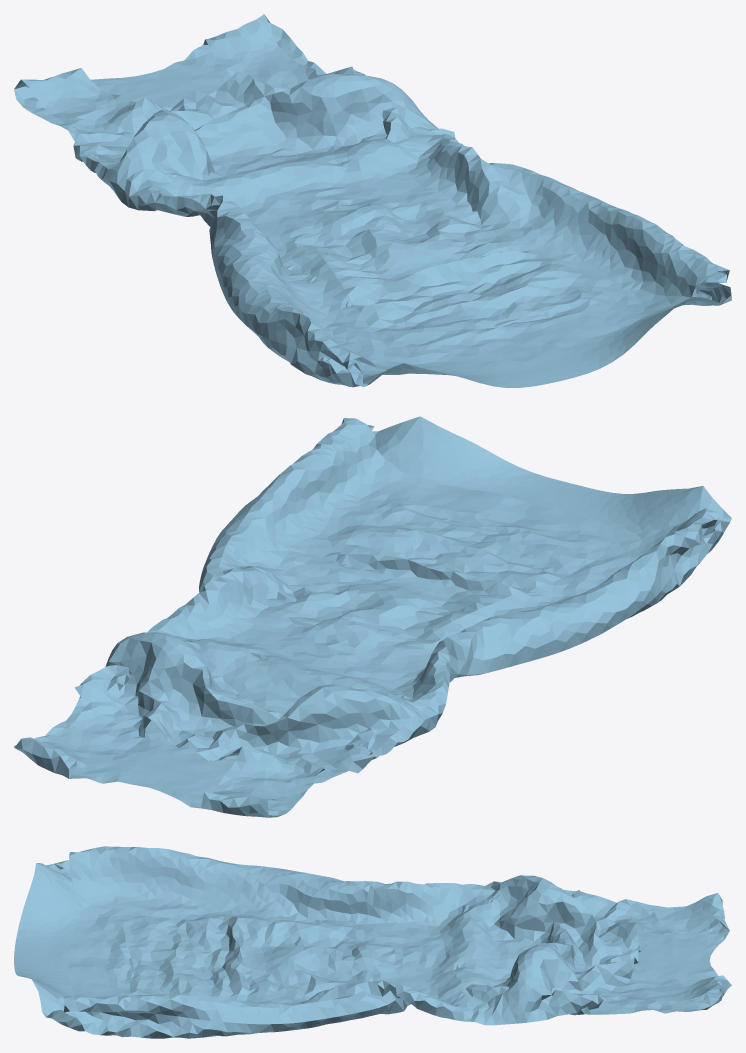
File: frame_01.glb
The picture shows the model from 3 angles, top to bottom: view 1: azimuth 30°, elevation 25°; view 2: azimuth 150°, elevation 25°; view 3: azimuth 270°, elevation 25°; orthographic projection. The views are drawn at different scales.
Parts seen in each view (by area): view 1: frame_01.obj; view 2: frame_01.obj; view 3: frame_01.obj.
Part boxes in pixels (x1=…): frame_01.obj: x1=14, y1=14, x2=731, y2=387; frame_01.obj: x1=14, y1=416, x2=731, y2=817; frame_01.obj: x1=14, y1=846, x2=731, y2=1038.
Bounding box in the file's own units: 0.9959 × 0.1409 × 1.87.
